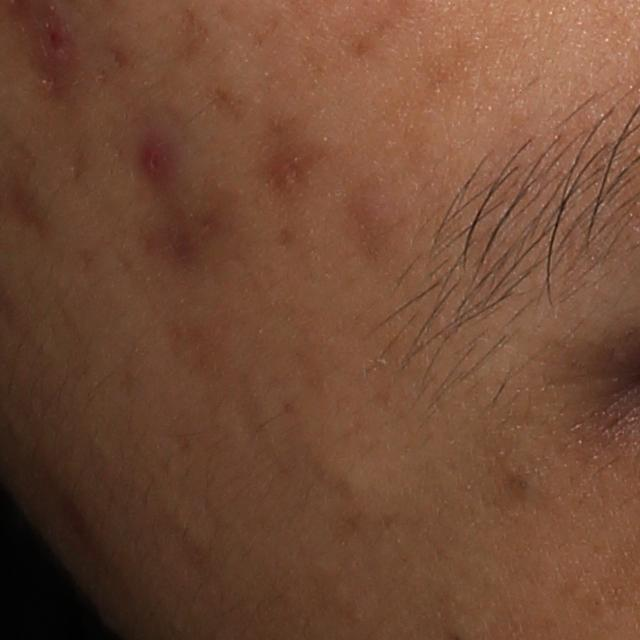papule: (36, 15, 79, 64), (137, 139, 172, 181)
